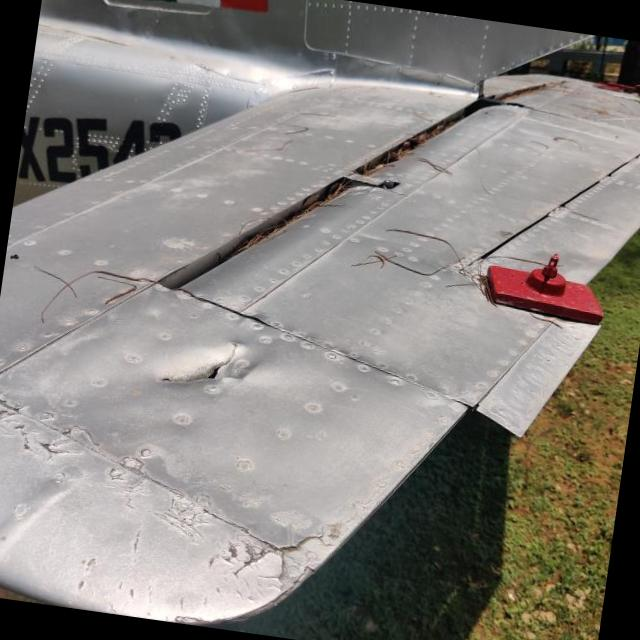Crack: (152, 342, 260, 396)
